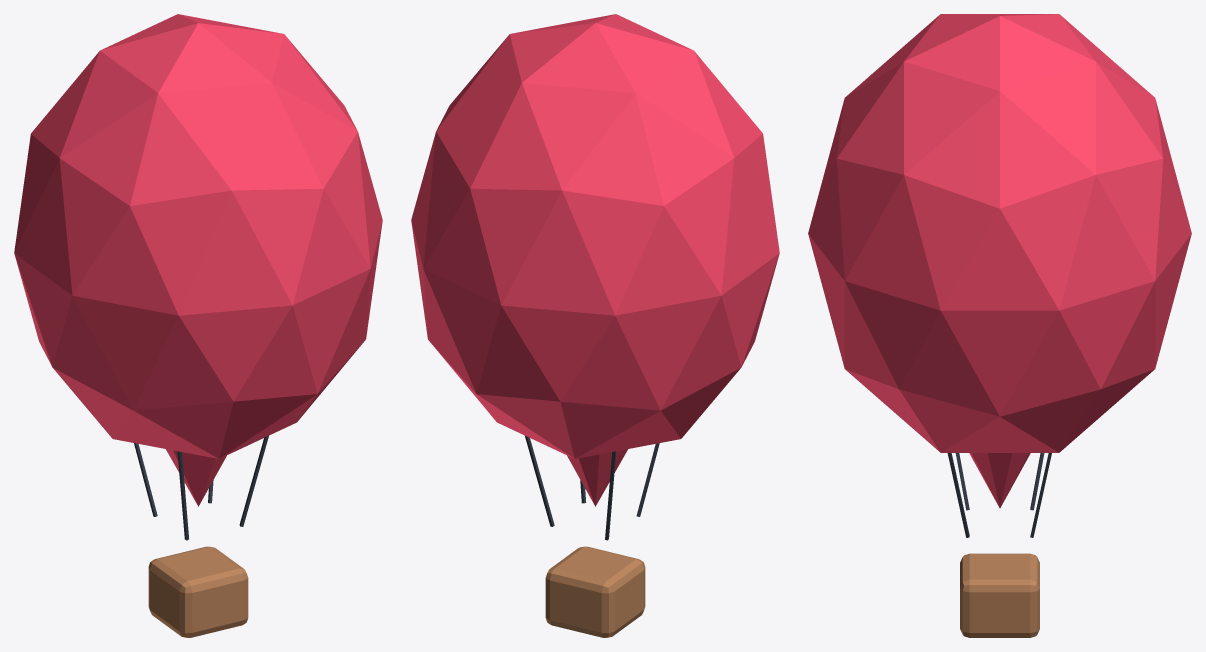
File: Plane_Balloon.fbx
3 renders of one model, left to right at view 1: azimuth 30°, elevation 25°; view 2: azimuth 150°, elevation 25°; view 3: azimuth 270°, elevation 25°, orthographic.
Visible parts, largest first — view 1: Balloon; view 2: Balloon; view 3: Balloon.
Part boxes in pixels (x1,y1,x2,y2): Balloon: (14, 14, 382, 637); Balloon: (411, 14, 779, 637); Balloon: (808, 14, 1191, 637).
Bounding box in the file's own units: 2.28 × 4.2 × 2.4.
